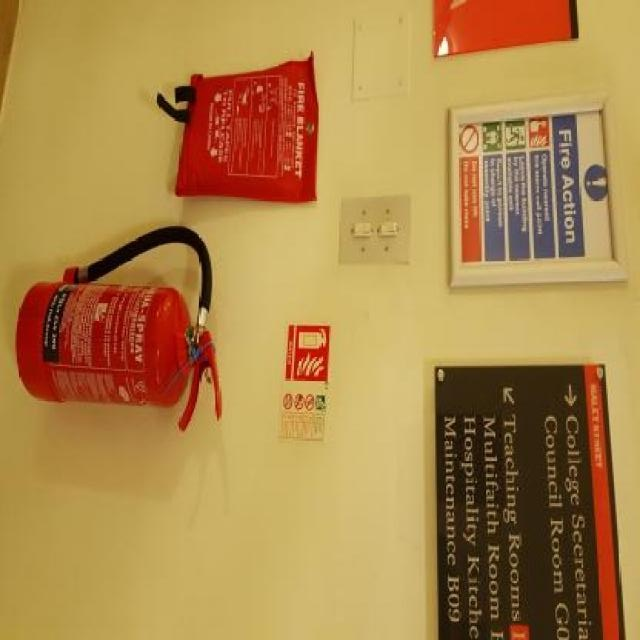fire extinguisher: (15, 224, 222, 433)
